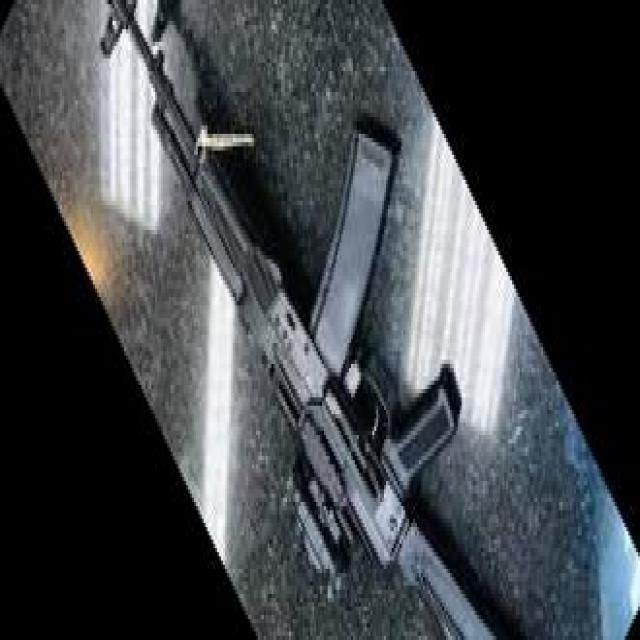weapon: (100, 0, 502, 640)
